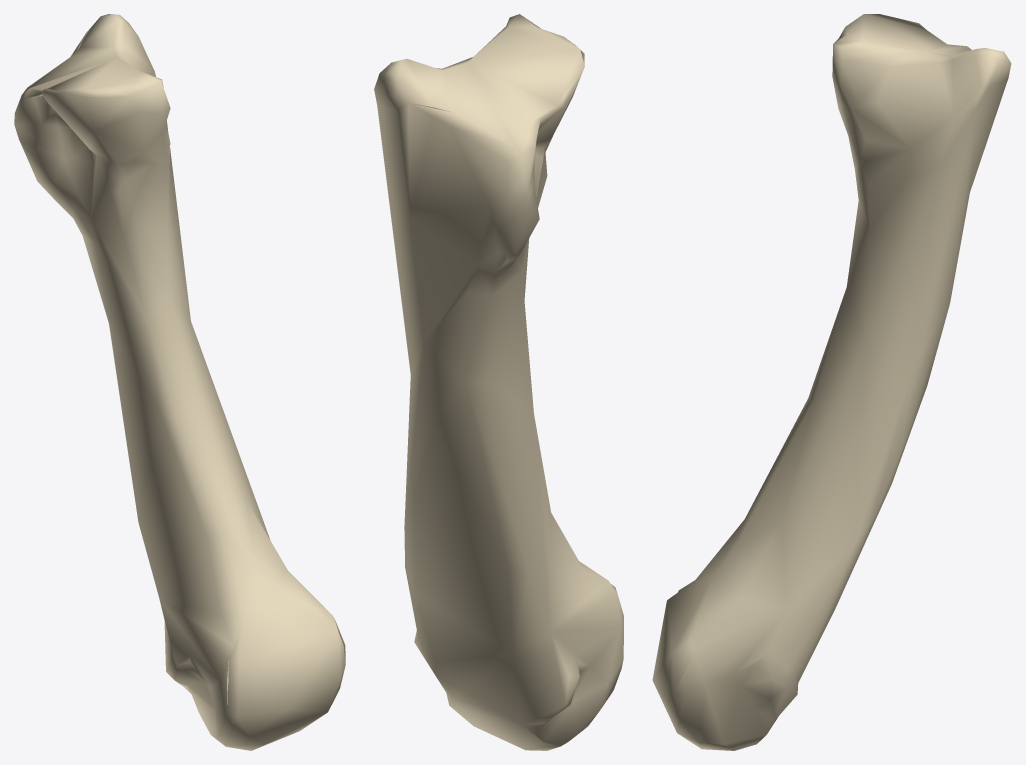
Rendered from esqueleto-third-metacarpal-bone-l.glb.
3 renders of one model, left to right at view 1: azimuth 30°, elevation 25°; view 2: azimuth 150°, elevation 25°; view 3: azimuth 270°, elevation 25°, orthographic. The views are drawn at different scales.
Visible parts, largest first — view 1: Third metacarpal bone.l; view 2: Third metacarpal bone.l; view 3: Third metacarpal bone.l.
Part boxes in pixels (x1,y1,x2,y2): Third metacarpal bone.l: (14,14,345,750); Third metacarpal bone.l: (374,14,623,750); Third metacarpal bone.l: (652,14,1011,750).
Bounding box in the file's own units: 0.0208 × 0.0667 × 0.0317.
